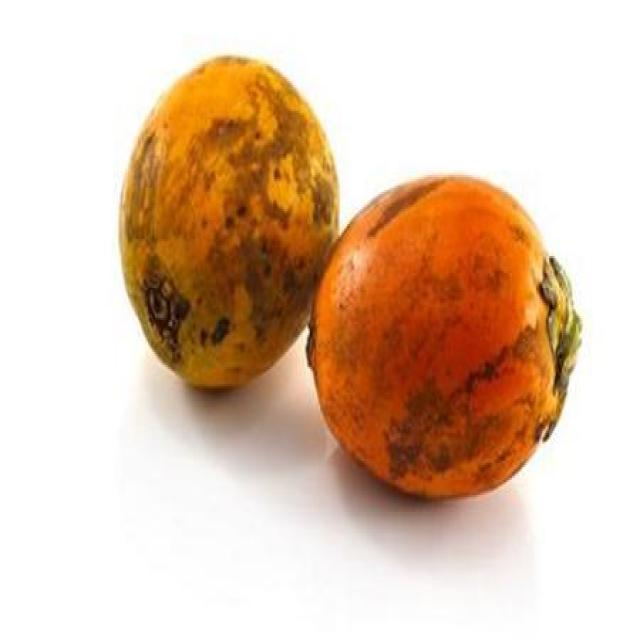good: (307, 175, 583, 501), (118, 55, 341, 393)
